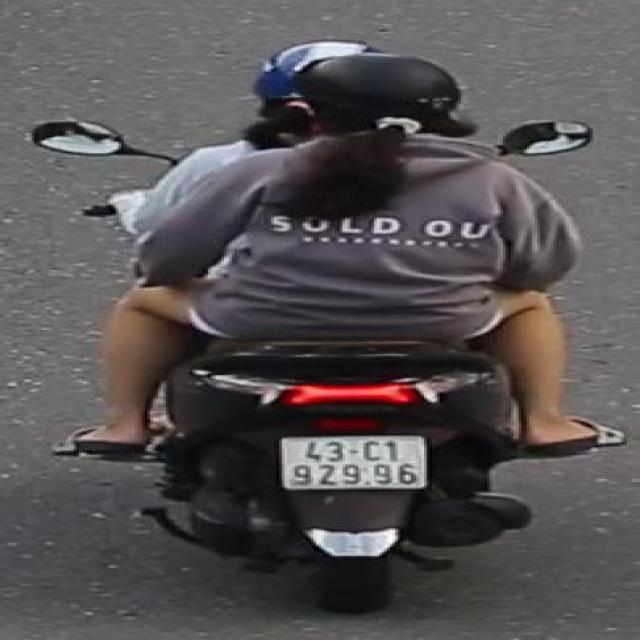LP: (274, 432, 432, 497)
helmet: (304, 53, 462, 137), (248, 36, 390, 97)
